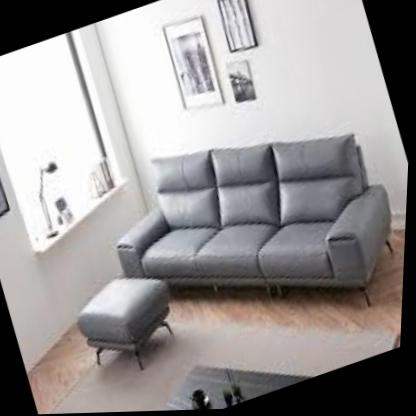Sofa: (24, 75, 413, 415)
